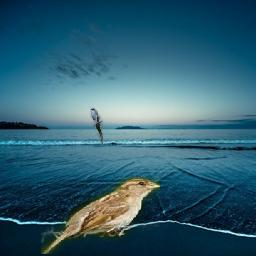Cuckoo: (91, 108, 104, 145)
Sparrow: (42, 178, 161, 255)
